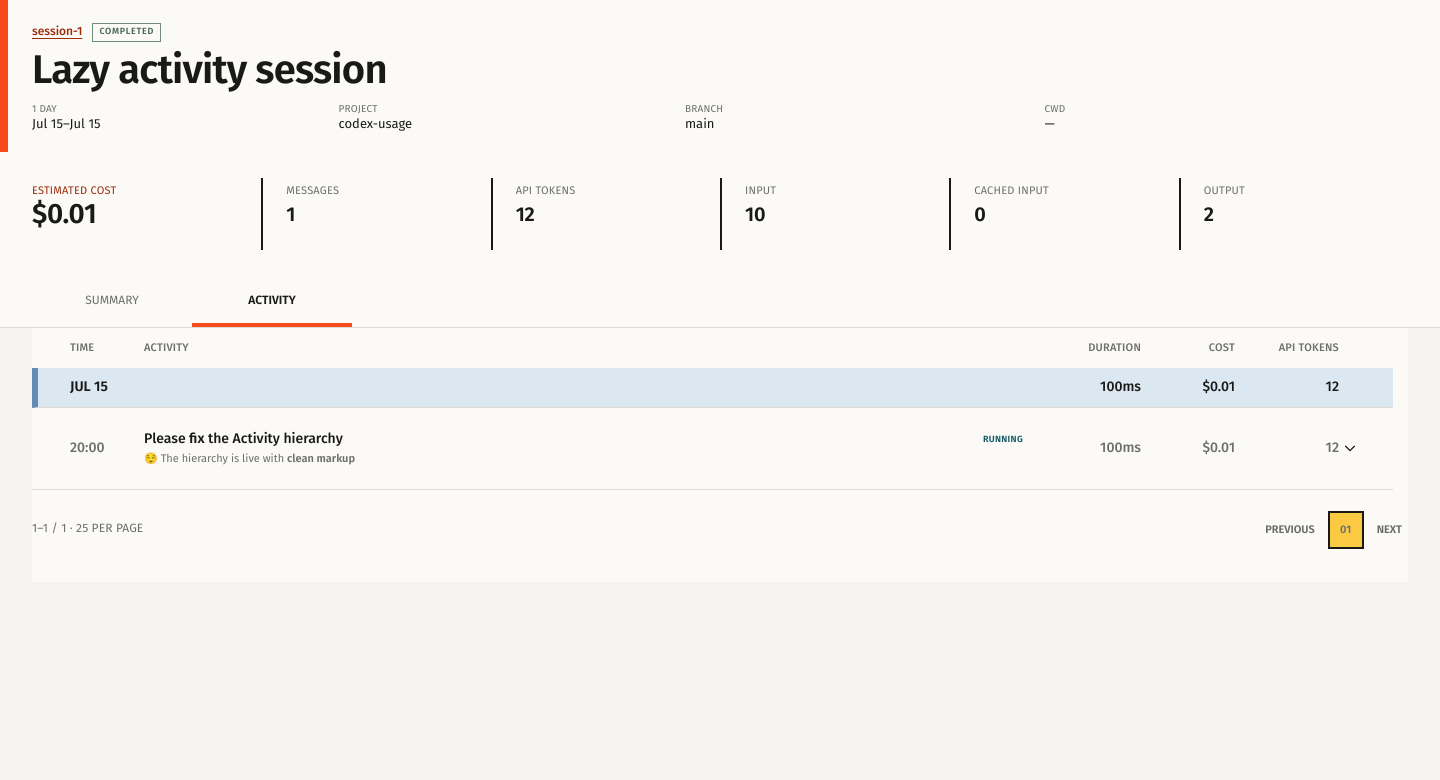
it: SessionDetailPage activity › leads with the user request and progressively discloses the complete exchange hierarchy
expect the text "1 DAY" is shown: met, box [32, 103, 57, 115]
expect the table named "Session activity" is shown: met, box [32, 328, 1393, 490]
Click the button "fix" at (167, 438), box [144, 430, 1023, 467]
(page scrolled)
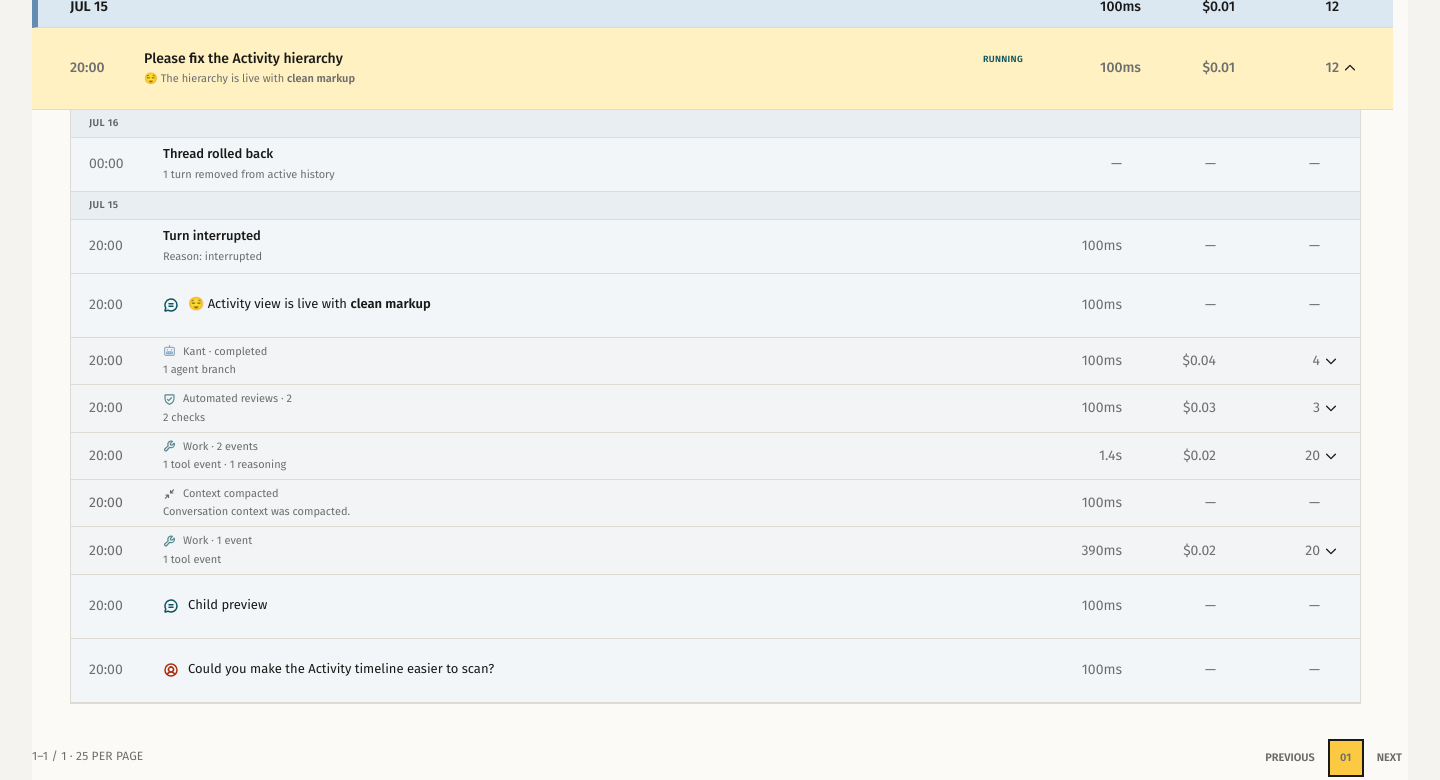
expect the button "fix" is expanded: met, box [144, 50, 1023, 87]
expect the list item "Could you make the Activity timeline easier to scan?" is shown: met, box [188, 662, 494, 677]
expect the text "Child preview" is shown: met, box [188, 598, 267, 613]
Click the button "Work · 2 events 1 tool event · 1 reasoning" at (220, 446), box [163, 439, 1004, 473]
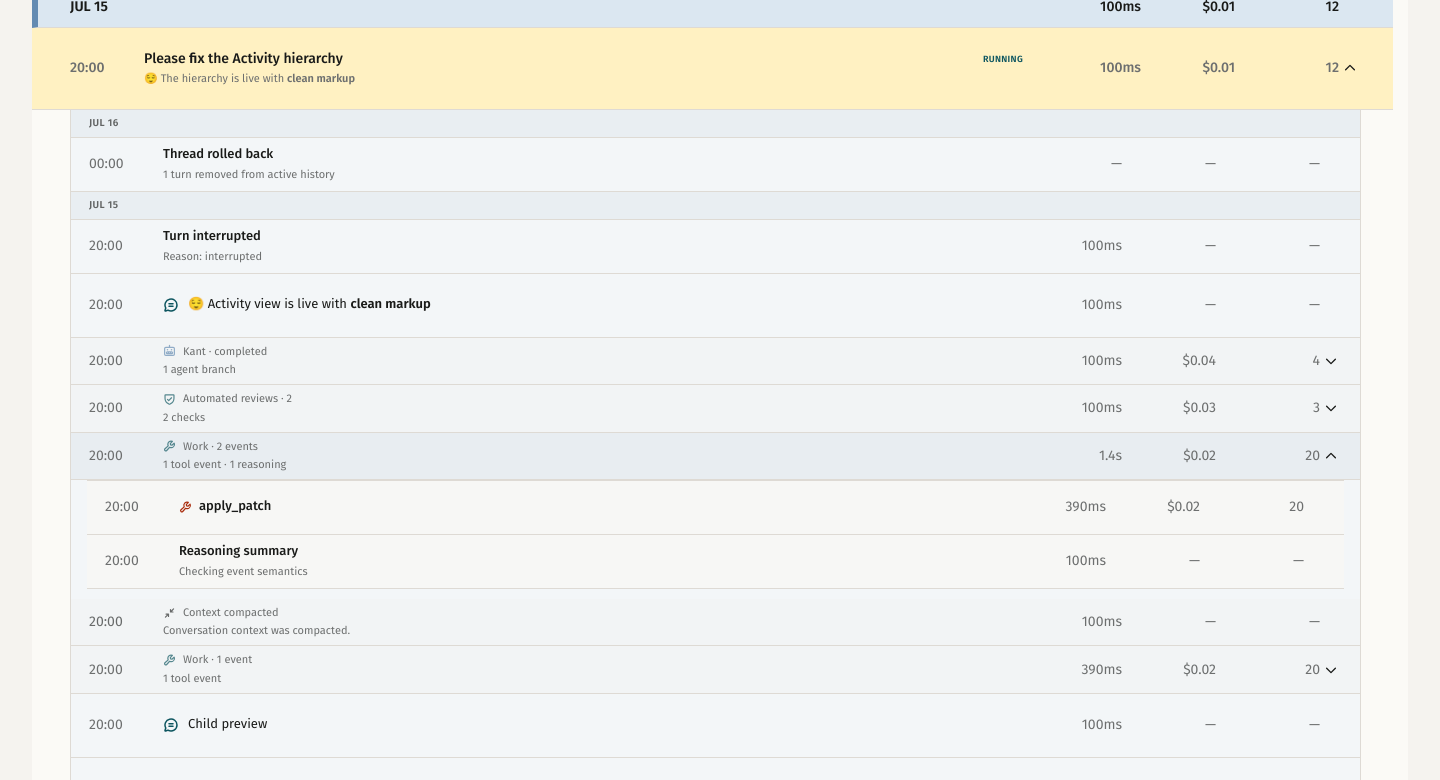
expect the text with class "event-cost" next to "1.4s" reads "$0.02": met, box [1183, 447, 1216, 464]
expect the text with class "event-tokens" in the row of "1.4s" reads "20": met, box [1305, 447, 1320, 464]
expect the text "Checking event semantics" is shown: met, box [179, 565, 308, 578]
Click the button "Work · 1 event 1 tool event" at (218, 660), box [163, 652, 1004, 687]
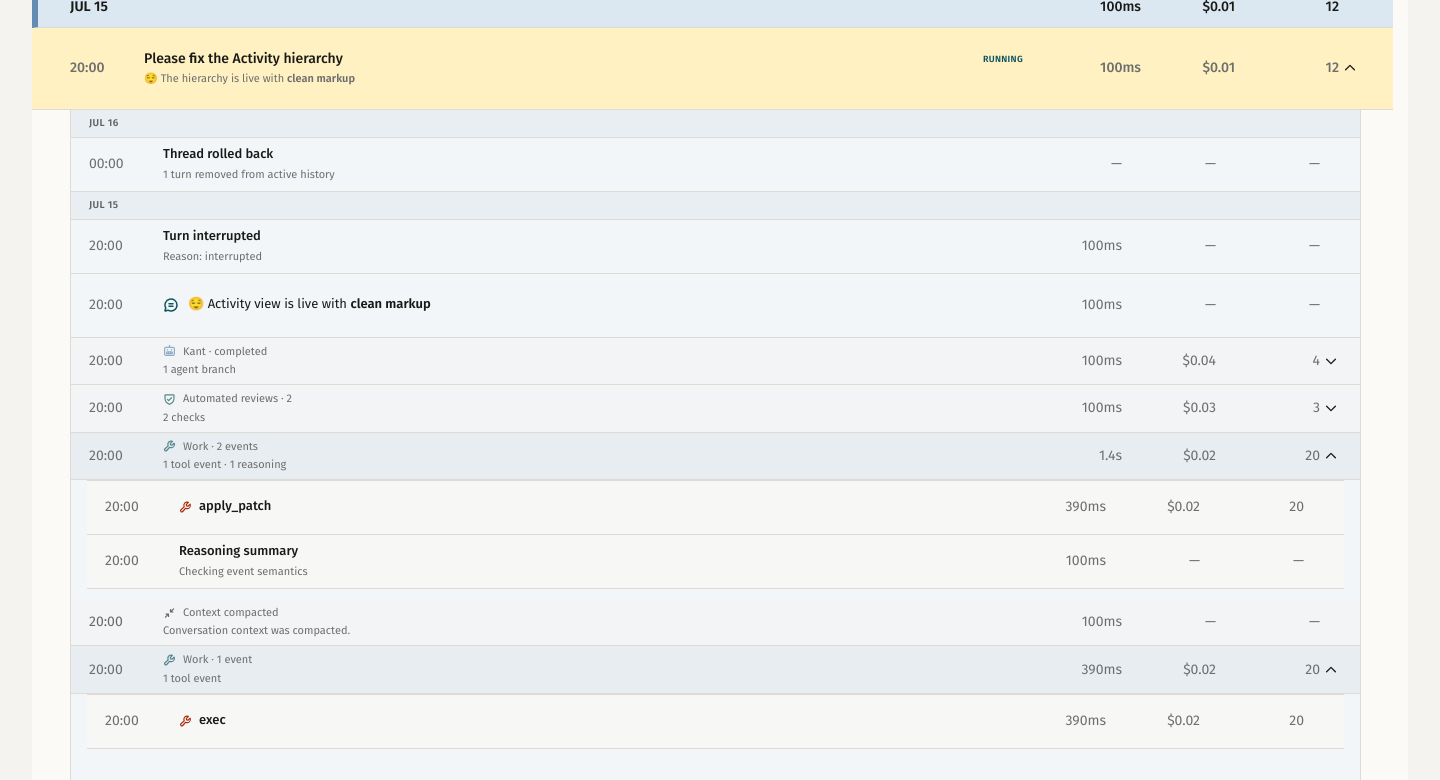
expect the 3rd text with class "event-cost" reads "$0.02": met, box [1183, 660, 1216, 678]
expect the 3rd text with class "event-tokens" reads "20": met, box [1305, 660, 1320, 678]
expect the text with class "event-cost" in the row of "exec" reads "$0.02": met, box [1167, 712, 1200, 729]
Click the button "Automated reviews · 2 2 checks" at (237, 399), box [163, 391, 1004, 426]
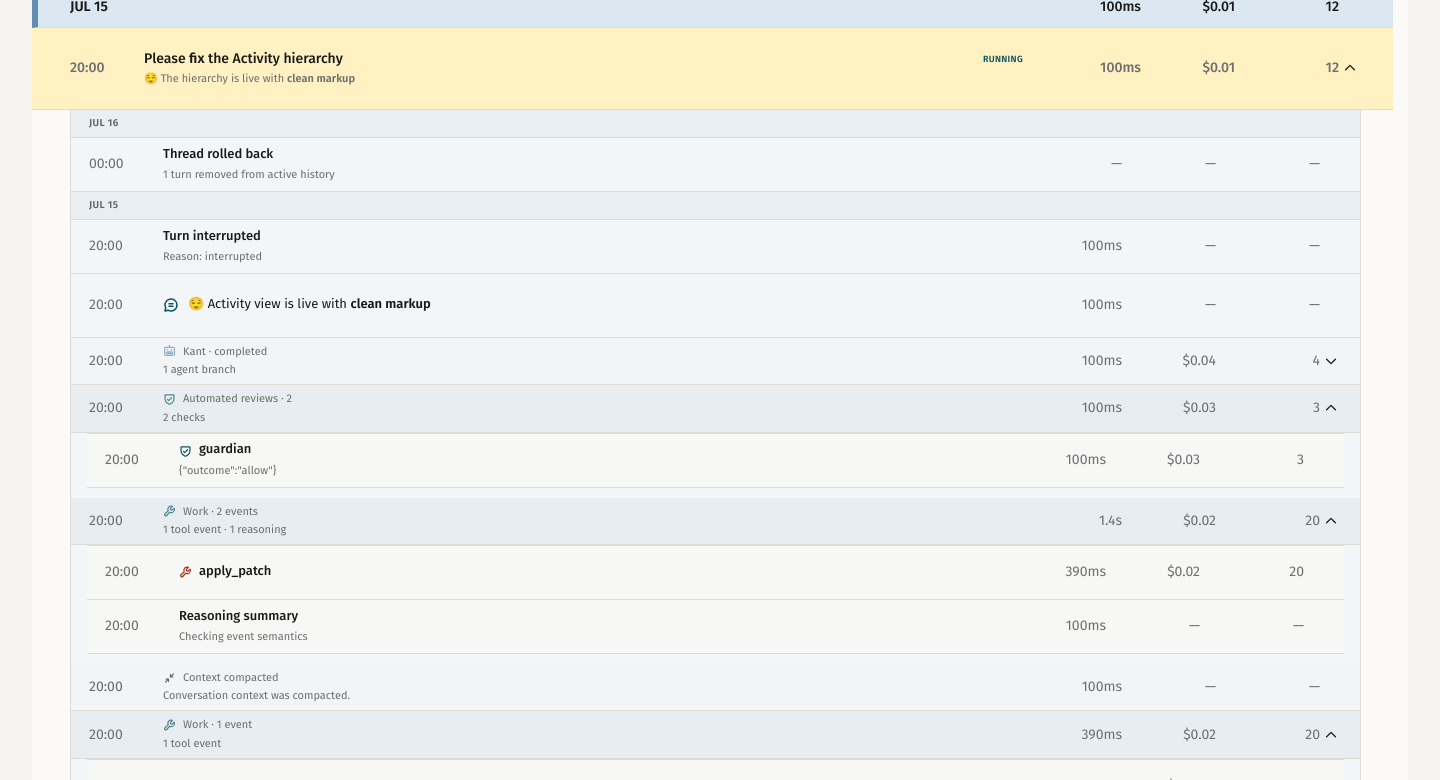
expect the 1st text with class "event-cost" reads "$0.03": met, box [1183, 399, 1216, 416]
expect the 1st text with class "event-tokens" reads "3": met, box [1313, 399, 1320, 416]
expect the text "{\"outcome\":\"allow\"}" is shown: met, box [179, 464, 276, 477]
Click the button "Kant · completed 1 agent branch" at (225, 351), box [163, 344, 1004, 378]
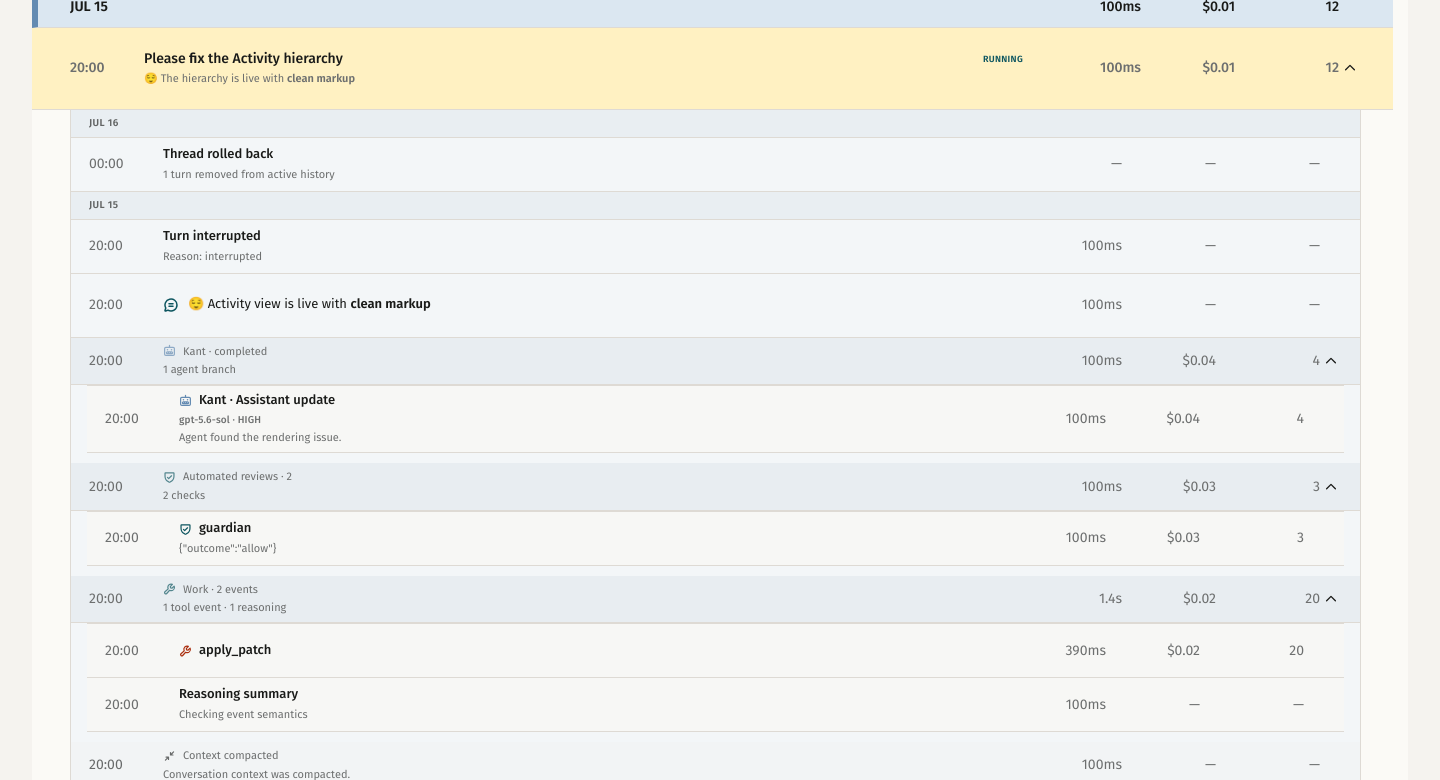
expect the 1st text with class "event-cost" reads "$0.04": met, box [1182, 352, 1216, 369]
expect the 1st text with class "event-tokens" reads "4": met, box [1312, 352, 1320, 369]
expect the text "Agent found the rendering issue." shows "gpt-5.6-sol · HIGH": met, box [179, 414, 261, 426]
